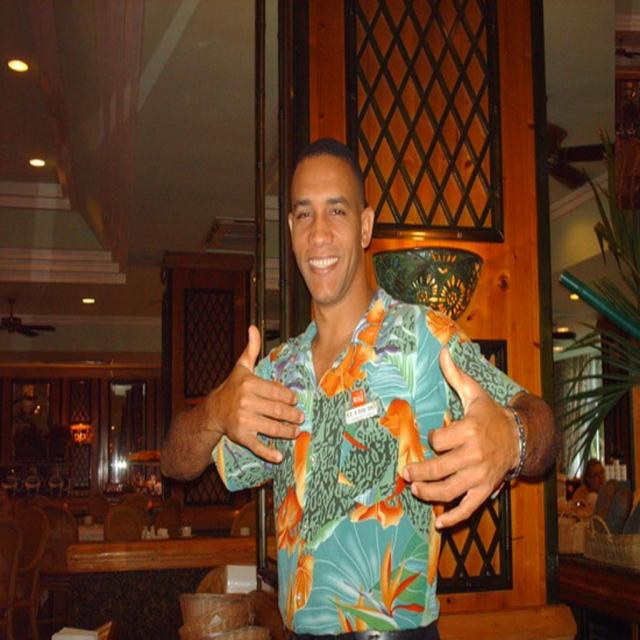nomask: (292, 155, 362, 301)
